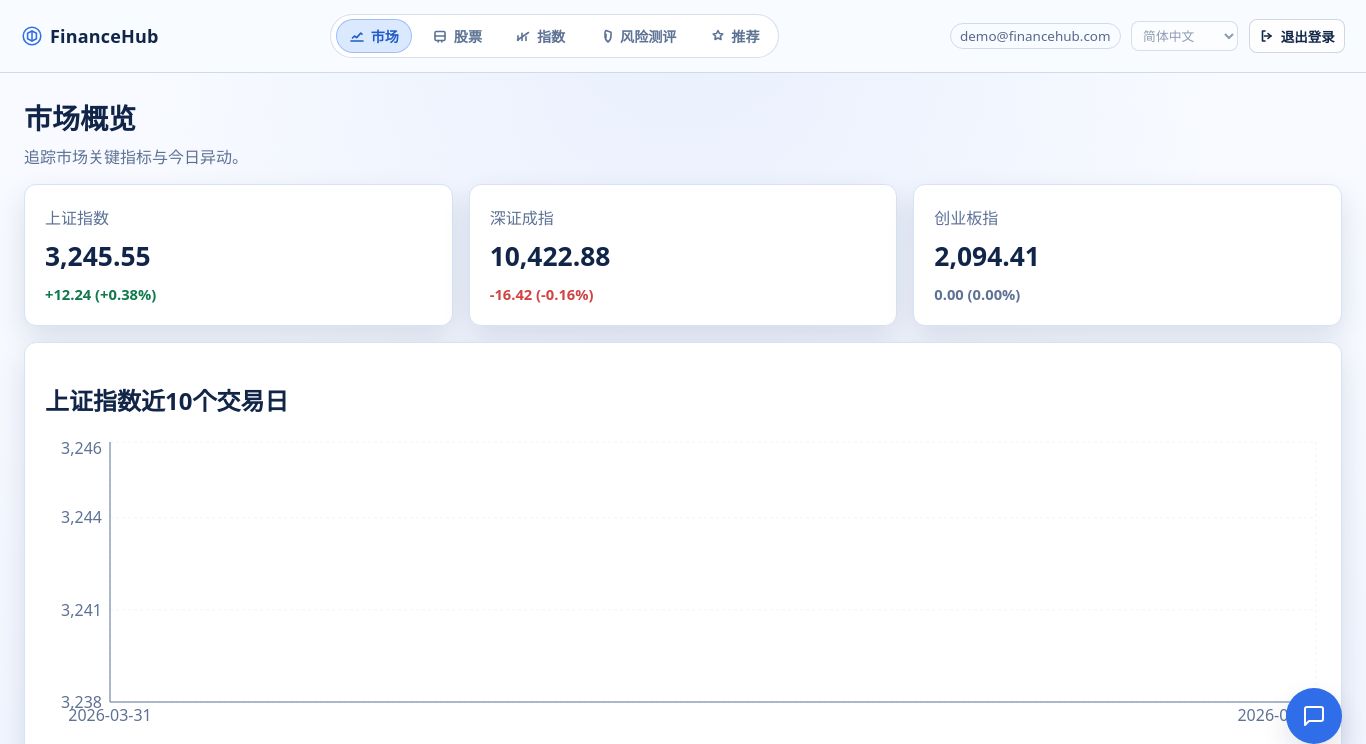
Scenario: App routing shell › enforces the five-route Chinese shell contract and navigation paths
Check: the navigation bar named "主导航" is shown, box [330,14,779,58]
Check: the heading "市场概览" is shown, box [24,99,136,137]
Click the link "股票" at {"x": 457, "y": 36}, box [432,27,482,46]
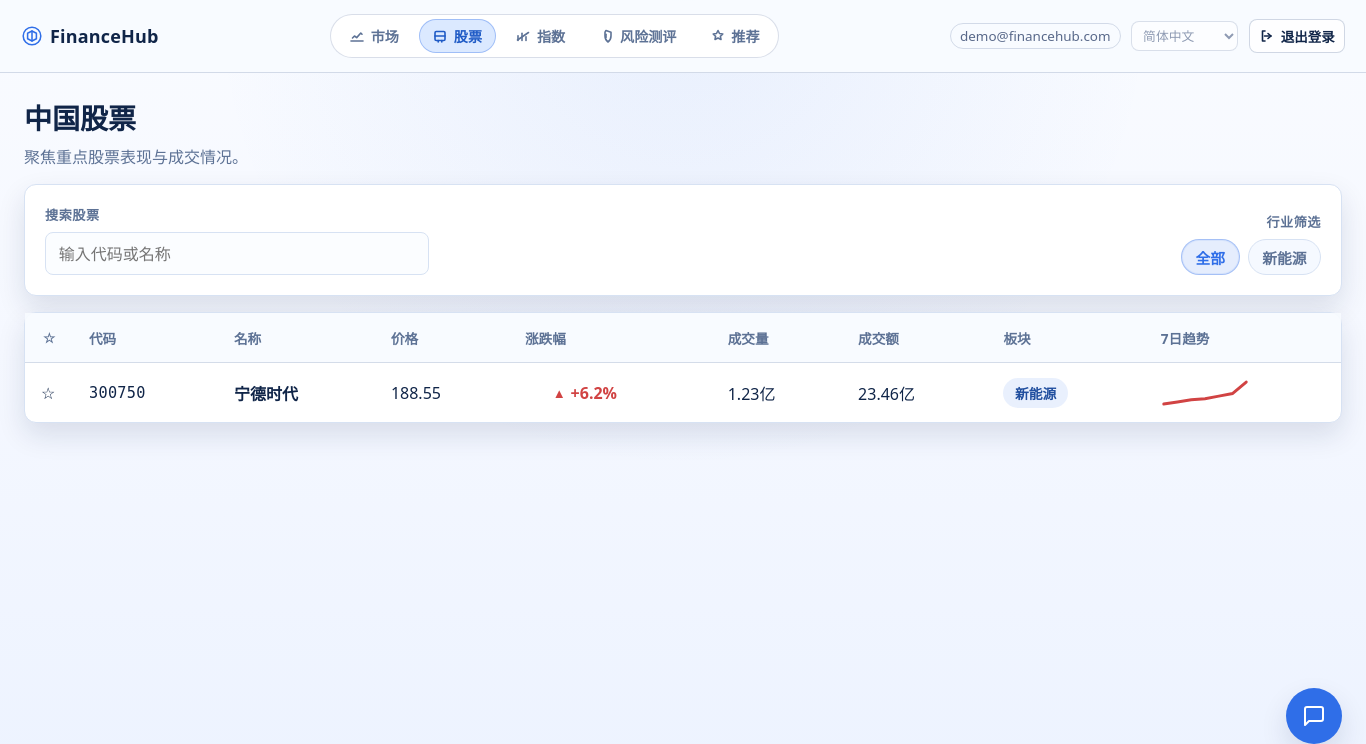
Check: the heading "中国股票" is shown, box [24,99,136,137]
Click the link "指数" at {"x": 540, "y": 36}, box [515,27,565,46]
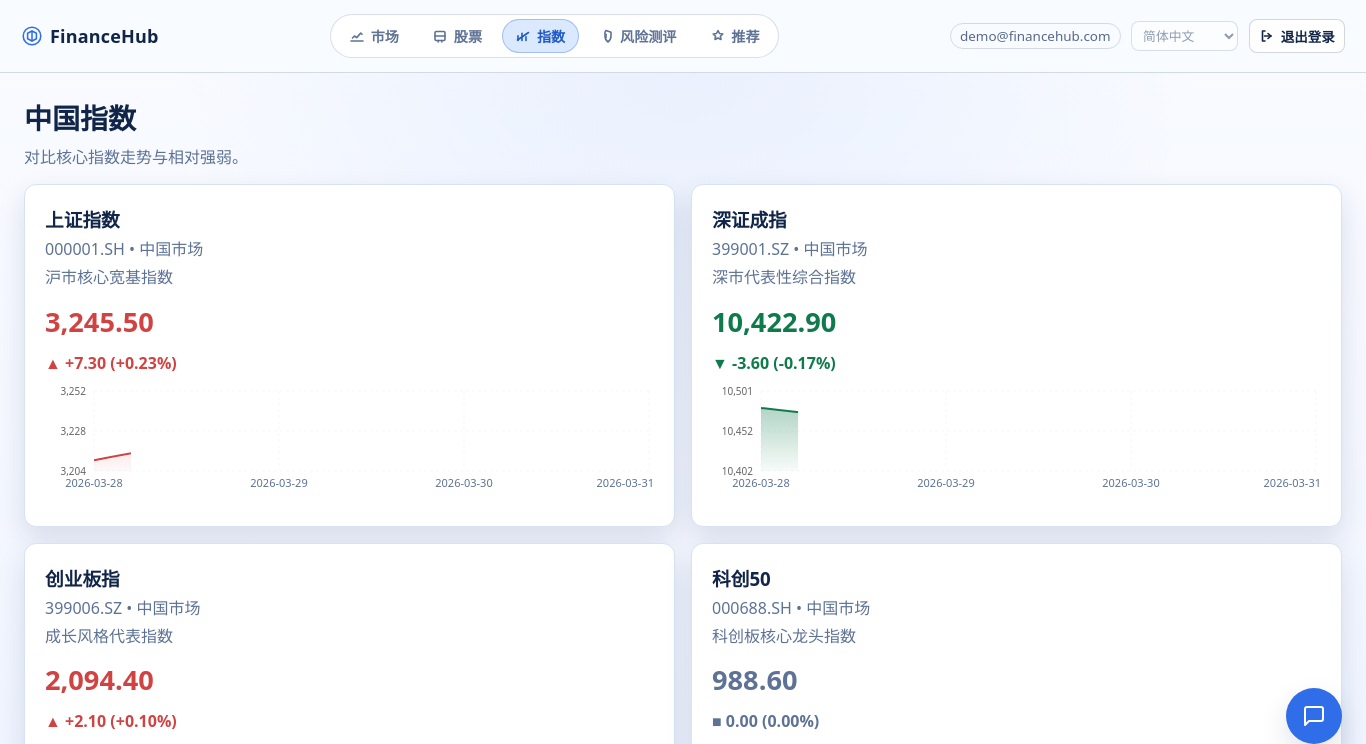
Check: the heading "中国指数" is shown, box [24,99,136,137]
Check: the heading "上证指数" is shown, box [45,207,120,232]
Check: the heading "科创50" is shown, box [712,566,771,590]
Click the link "风险测评" at {"x": 637, "y": 36}, box [598,27,676,46]
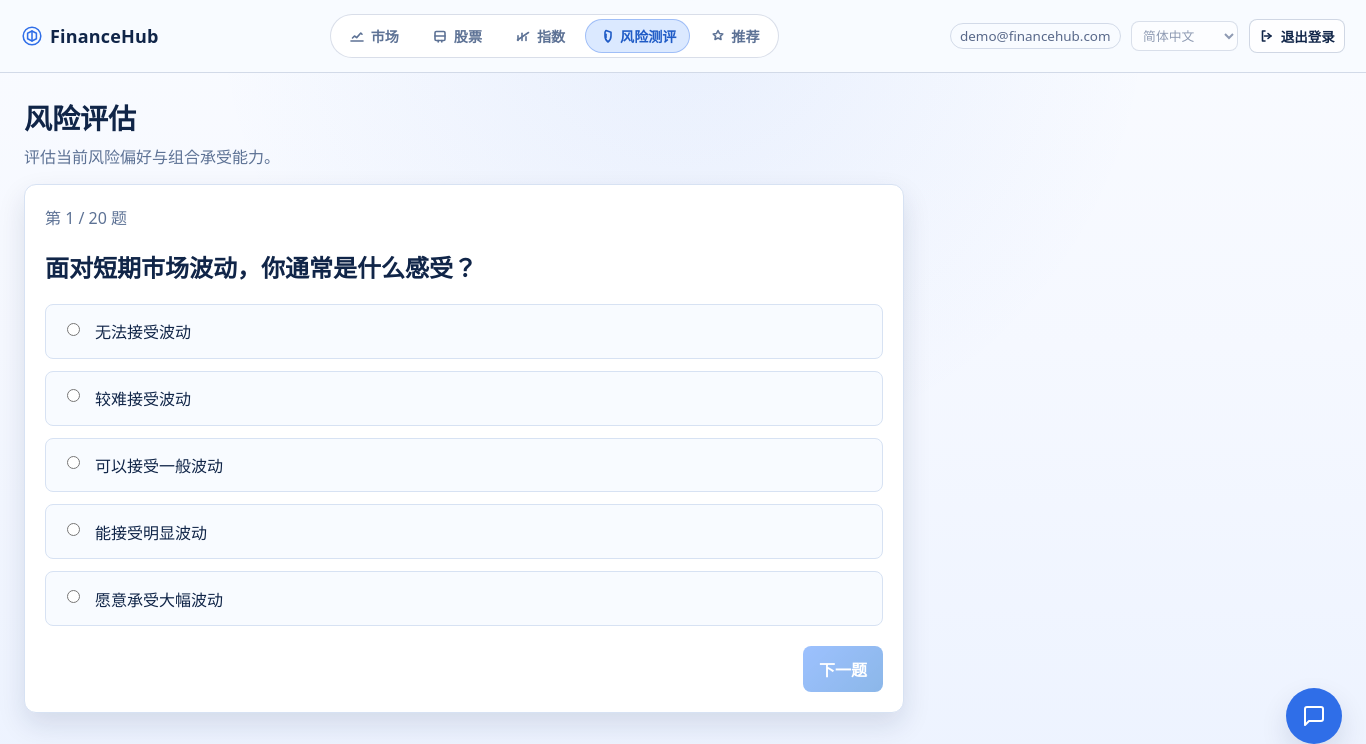
Check: the heading "风险评估" is shown, box [24,99,136,137]
Click the link "推荐" at {"x": 735, "y": 36}, box [710,27,760,46]
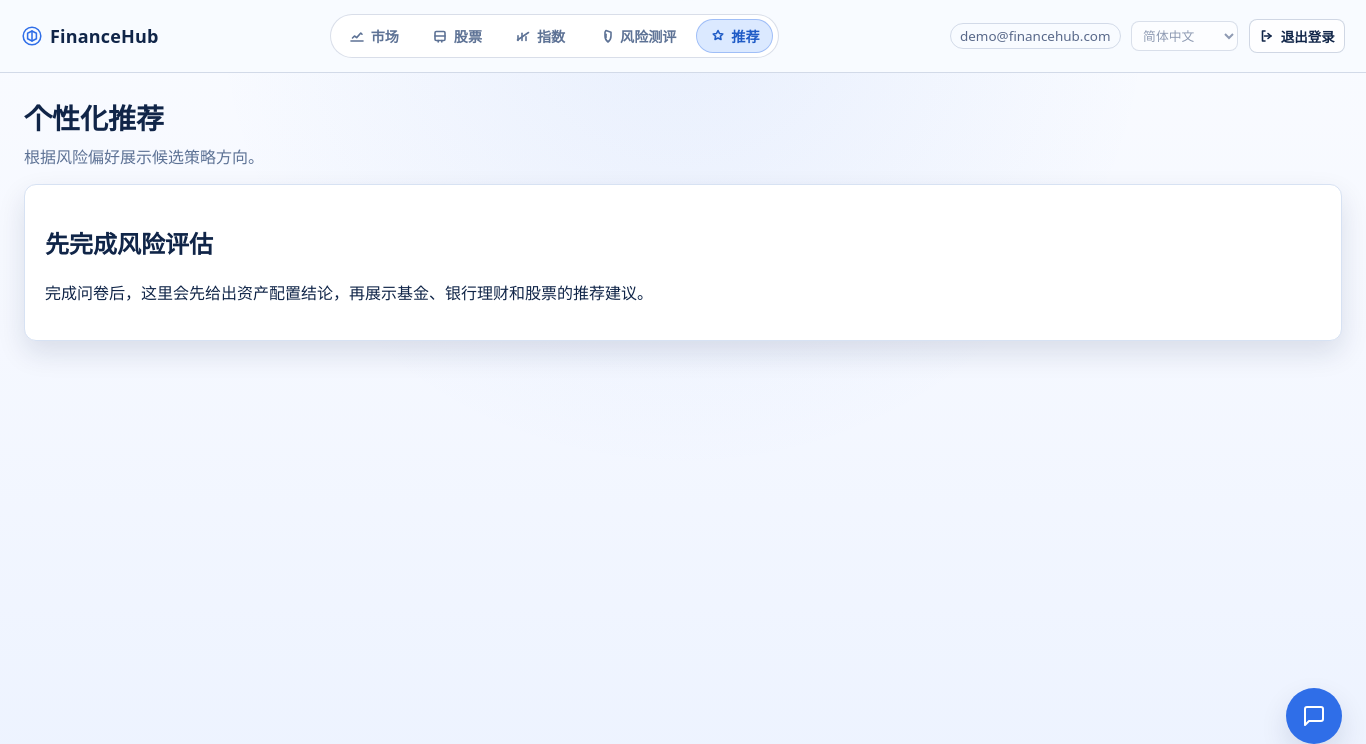
Check: the heading "个性化推荐" is shown, box [24,99,164,137]
